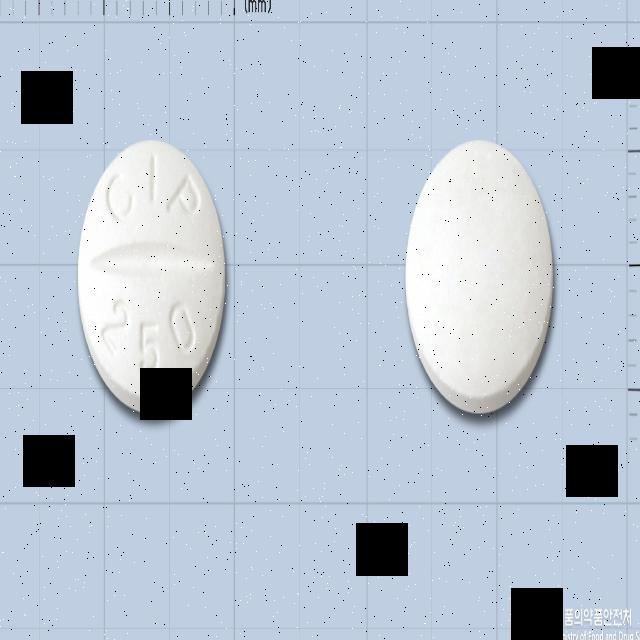Propocin Tab: (78, 141, 226, 413)
